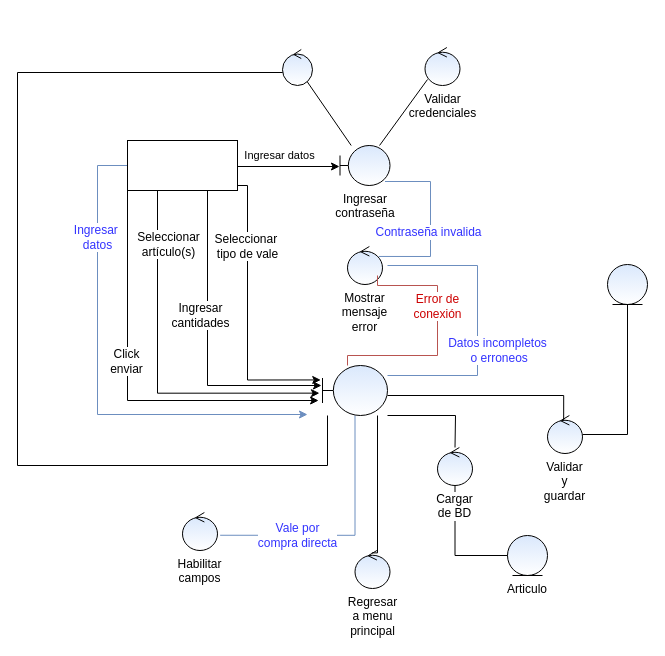
Some shapes in this 665 by 656 pixel diagram are drawn without their labels. Here are the shapes that lost their labels. From the top down, the centre of each, then its label:
At point (297, 67): "Desplegar campos".
At point (182, 165): "<<Actor>> Oficina de departamento".
At point (627, 284): "Vale".
At point (355, 390): "Registrar vale".
